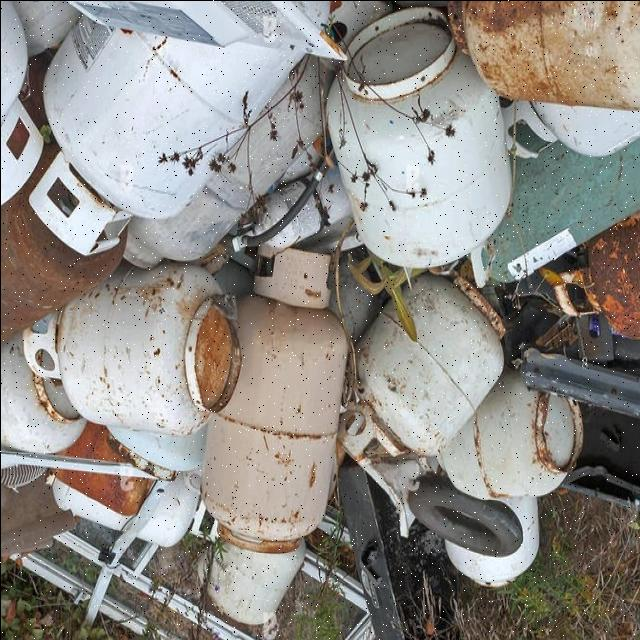cylinder: (26, 13, 304, 255), (323, 5, 511, 290), (201, 247, 347, 553), (23, 257, 240, 434), (336, 272, 505, 487)
